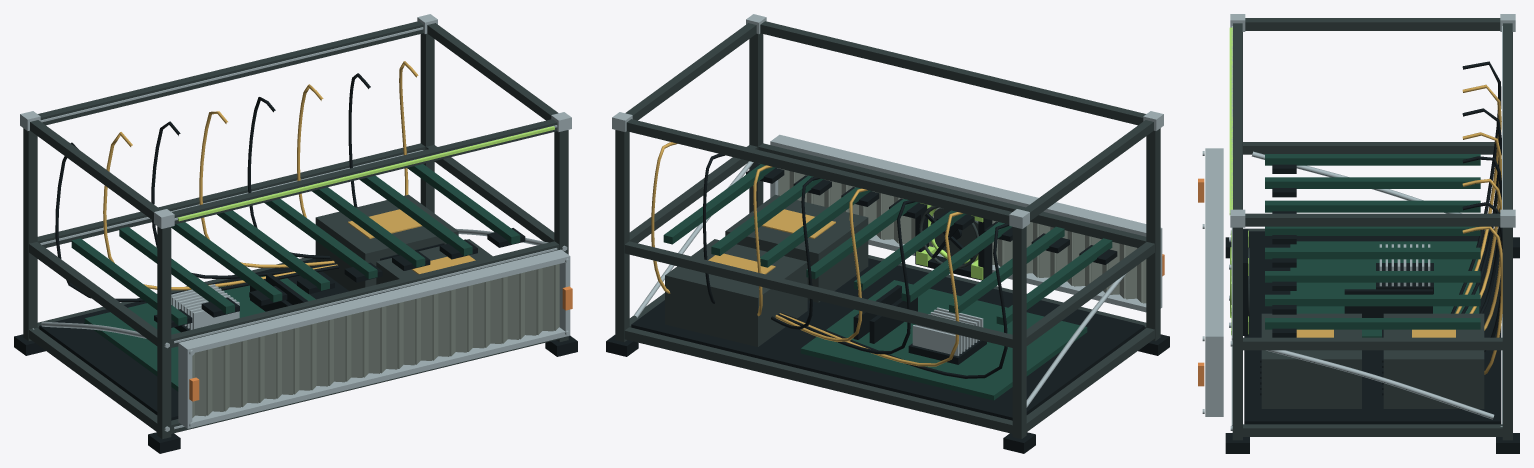
File: rig-runtime-8-pleated-none.glb
3 renders of one model, left to right at view 1: azimuth 30°, elevation 25°; view 2: azimuth 150°, elevation 25°; view 3: azimuth 270°, elevation 25°, orthographic.
Visible parts, largest first — view 1: Anodized graphite, Filter fibres, Brushed aluminium (×2), Circuit board, Rubber and ABS, rig-runtime-8-pleated-none, Contacts, slot-cable-1, slot-cable-2, slot-cable-3, slot-cable-4, slot-cable-5; view 2: Anodized graphite (×2), Circuit board, Rubber and ABS (×2), Brushed aluminium (×2), Filter fibres, Contacts, slot-cable-1, slot-cable-2, slot-cable-3, slot-cable-4, slot-cable-5, Lime accents (+2 smaller); view 3: Anodized graphite, Circuit board, Rubber and ABS (×2), Brushed aluminium (×2), slot-cable-1, Contacts, rig-runtime-8-pleated-none, slot-cable-2, slot-cable-3, slot-cable-4, slot-cable-8, slot-cable-5 (+3 smaller).
Part boxes in pixels (x1,y1,x2,y2): Anodized graphite: [23, 21, 568, 438]; Filter fibres: [192, 264, 559, 417]; Brushed aluminium (×2): [20, 14, 571, 431]; Circuit board: [71, 164, 520, 391]; Rubber and ABS: [14, 228, 577, 453]; rig-runtime-8-pleated-none: [177, 126, 554, 221]; Contacts: [348, 209, 475, 274]; slot-cable-1: [55, 142, 339, 301]; slot-cable-2: [103, 132, 337, 290]; slot-cable-3: [151, 121, 336, 278]; slot-cable-4: [199, 111, 334, 267]; slot-cable-5: [247, 97, 330, 259]; Anodized graphite (×2): [615, 21, 1160, 438]; Circuit board: [663, 164, 1112, 400]; Rubber and ABS (×2): [606, 163, 1169, 453]; Brushed aluminium (×2): [612, 14, 1163, 407]; Filter fibres: [778, 168, 1146, 303]; Contacts: [708, 209, 835, 274]; slot-cable-1: [781, 223, 1009, 378]; slot-cable-2: [779, 212, 962, 366]; slot-cable-3: [778, 200, 915, 354]; slot-cable-4: [775, 188, 867, 342]; slot-cable-5: [771, 177, 820, 329]; Lime accents: [916, 203, 983, 279]; Anodized graphite: [1232, 18, 1512, 440]; Circuit board: [1265, 154, 1480, 337]; Rubber and ABS (×2): [1225, 164, 1519, 453]; Brushed aluminium (×2): [1205, 14, 1515, 430]; slot-cable-1: [1451, 61, 1501, 313]; Contacts: [1296, 329, 1455, 337]; rig-runtime-8-pleated-none: [1229, 27, 1232, 214]; slot-cable-2: [1455, 84, 1501, 313]; slot-cable-3: [1461, 108, 1501, 313]; slot-cable-4: [1462, 132, 1501, 313]; slot-cable-8: [1462, 226, 1502, 374]; slot-cable-5: [1462, 156, 1501, 313].
Bounding box in the file's own units: 6.06 × 3.24 × 4.01.
